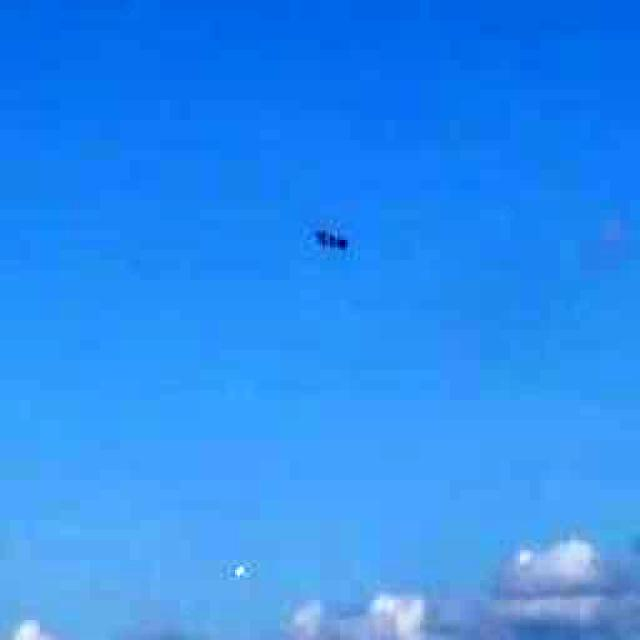bird: (279, 202, 379, 280), (218, 542, 268, 610)
